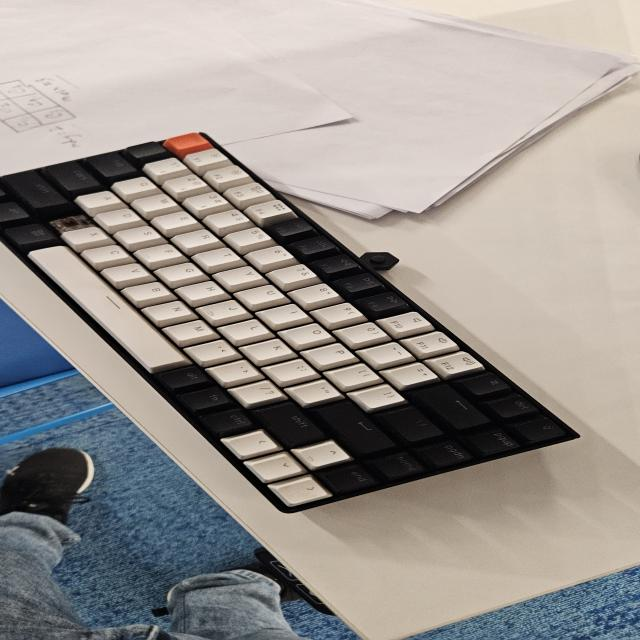C: (54, 214, 83, 230)
